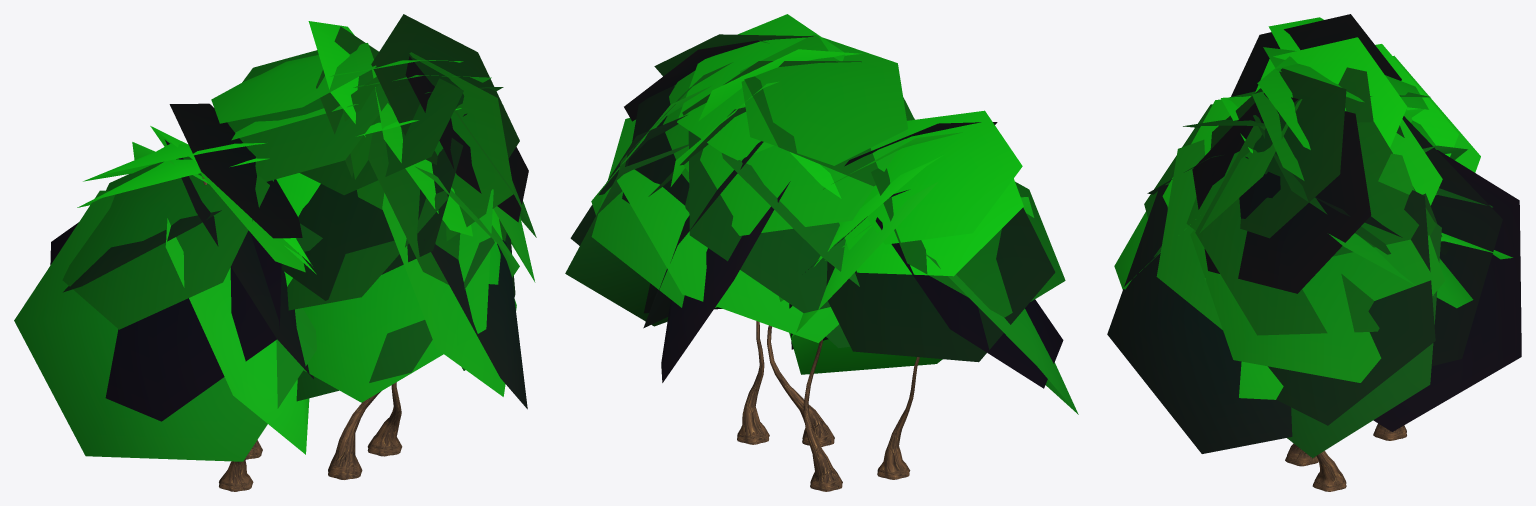
File: FantasyBush2.fbx
The picture shows the model from 3 angles, left to right: view 1: azimuth 30°, elevation 25°; view 2: azimuth 150°, elevation 25°; view 3: azimuth 270°, elevation 25°; orthographic projection. The views are drawn at different scales.
Parts seen in each view (by area): view 1: fantasyleaf2_alpha_1, tree2_0; view 2: fantasyleaf2_alpha_1, tree2_0; view 3: fantasyleaf2_alpha_1, tree2_0.
Boxes of the visible parts, <box> form: fantasyleaf2_alpha_1: <box>14,14,536,461</box>; tree2_0: <box>202,177,402,491</box>; fantasyleaf2_alpha_1: <box>565,14,1078,414</box>; tree2_0: <box>737,321,919,491</box>; fantasyleaf2_alpha_1: <box>1107,14,1521,457</box>; tree2_0: <box>1285,423,1406,491</box>.
Size of the model in its own units: 255 by 220 by 197.
1 material, 1 textured.
